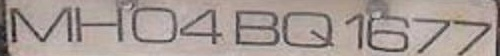character: (7, 4, 74, 47), (281, 9, 336, 50), (74, 2, 124, 45), (233, 7, 281, 49), (408, 10, 451, 55), (130, 4, 178, 44), (366, 11, 411, 53), (178, 5, 223, 46), (450, 13, 493, 53), (341, 10, 366, 50)
